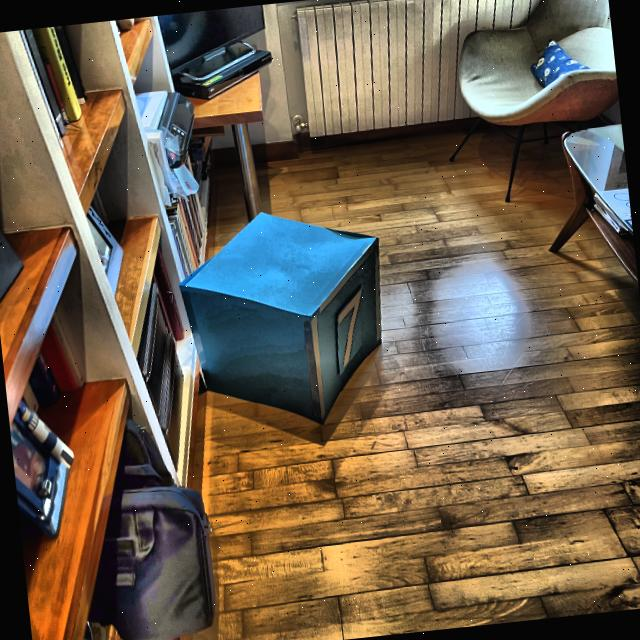blue box: (174, 199, 393, 438)
seven: (332, 286, 371, 369)
